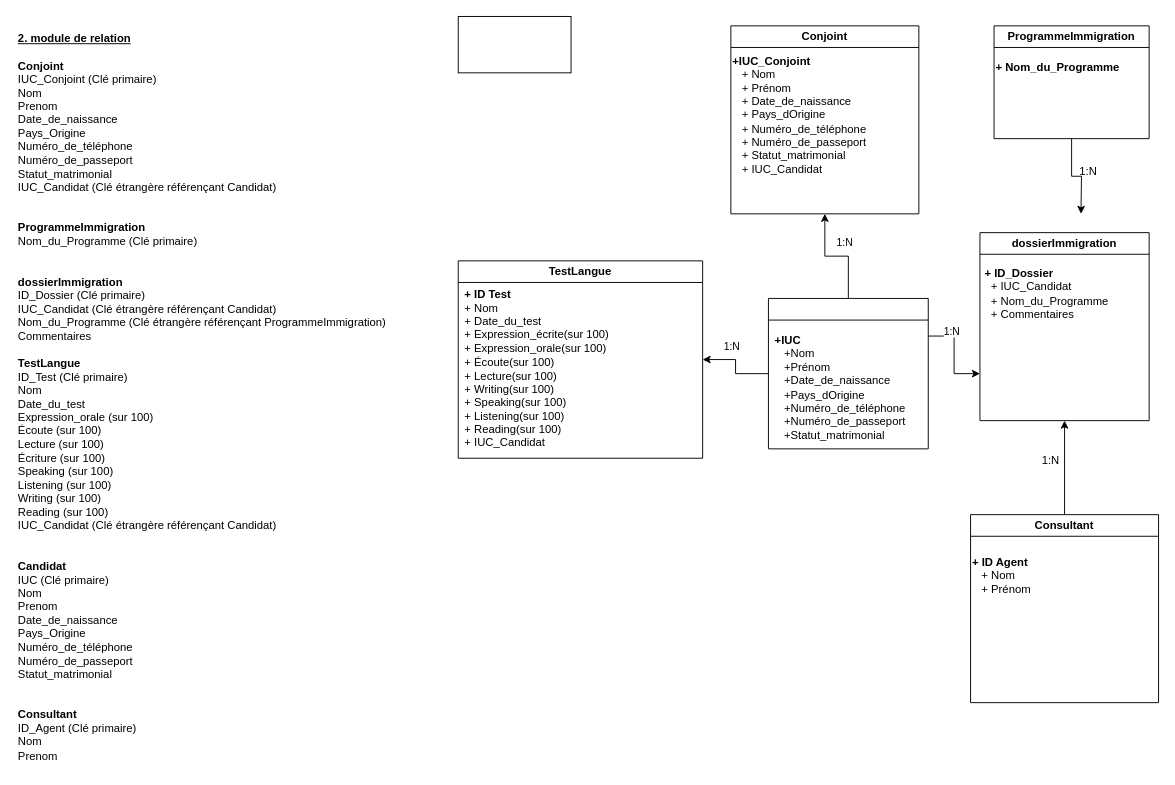
Some shapes in this 1175 by 785 pixel diagram are drawn without their labels. The box of each missing label's shape, as (x1, y1, x2, y2) in pixels:
Candidat: (768, 298, 928, 449)
Marc Melanson mi-session: (457, 16, 571, 73)
